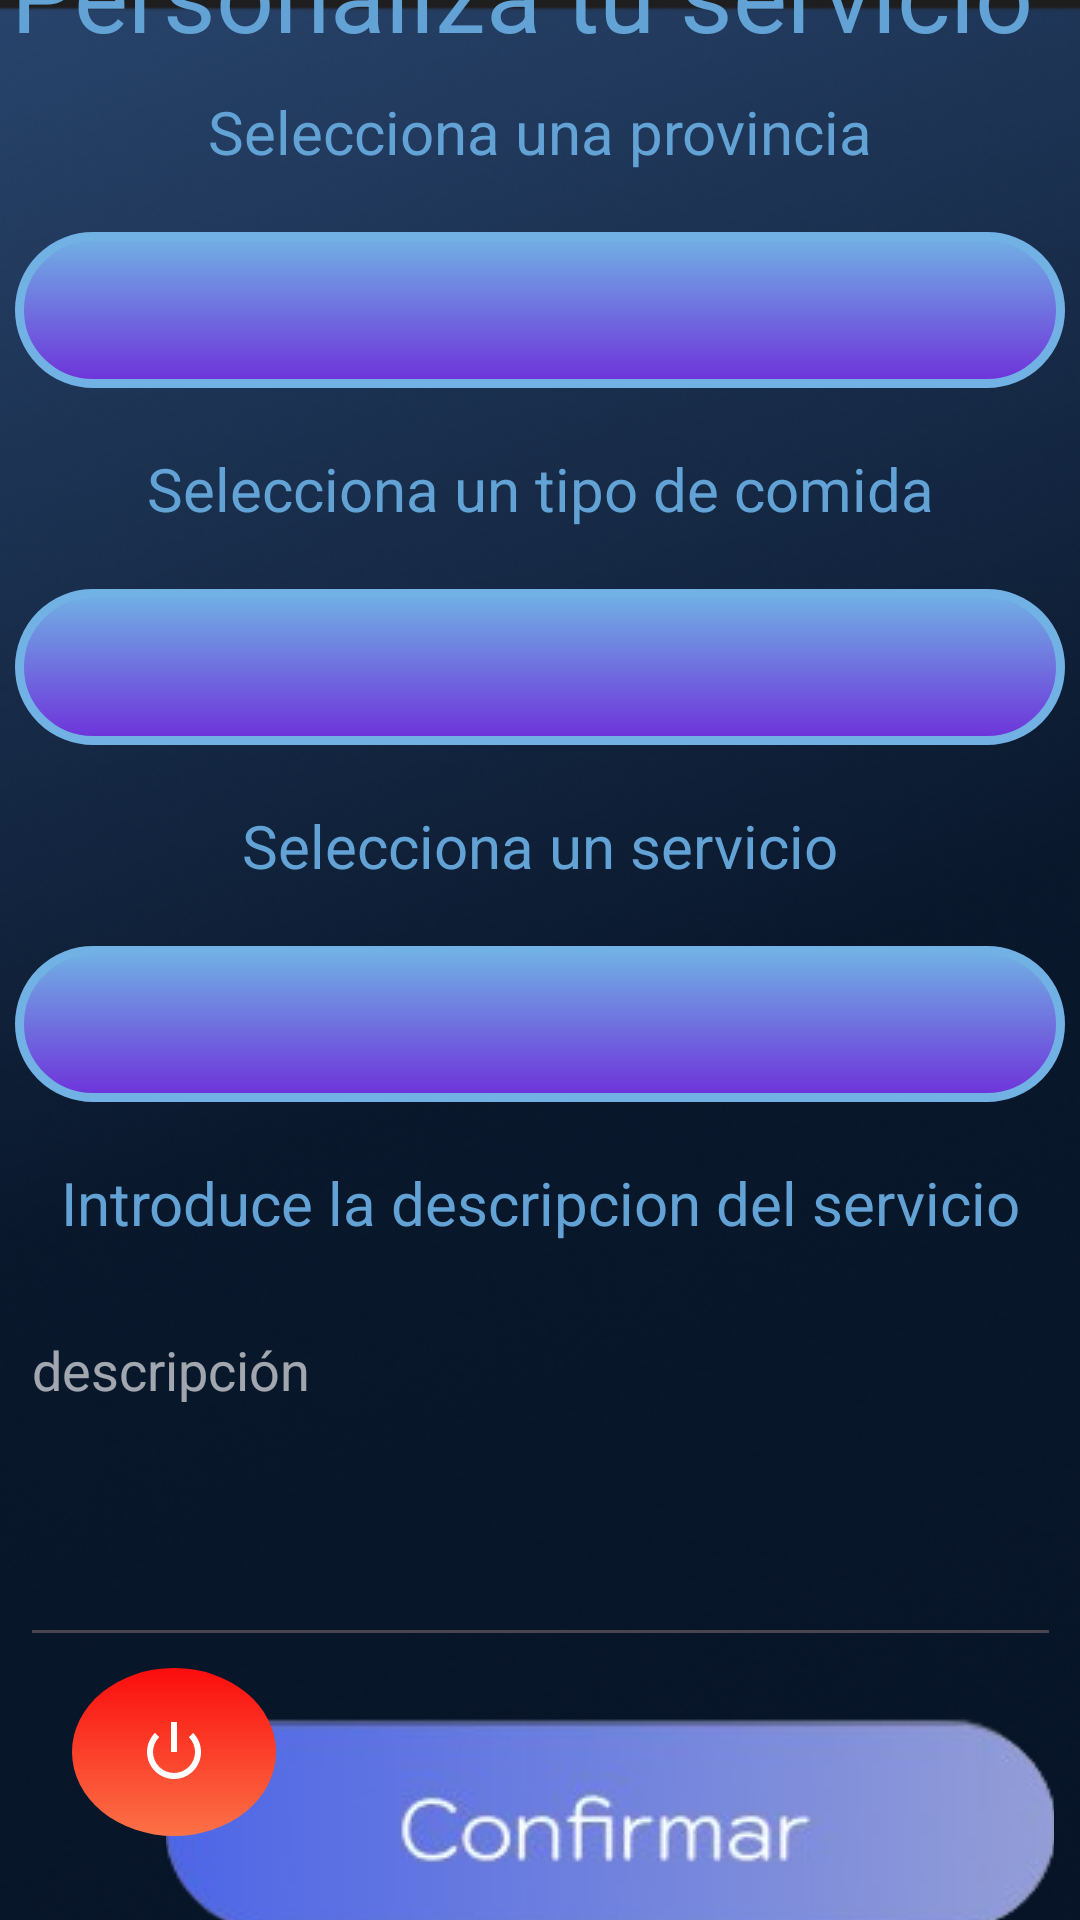

Named icons in this screenshot (1080px×1920px) and their centers, (x,y):
lock power off: (174,1752)
